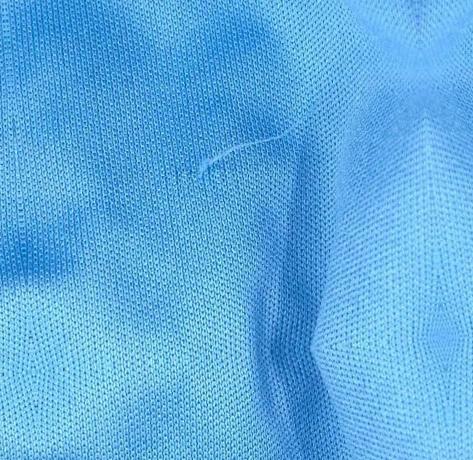snag: (189, 113, 317, 190)
